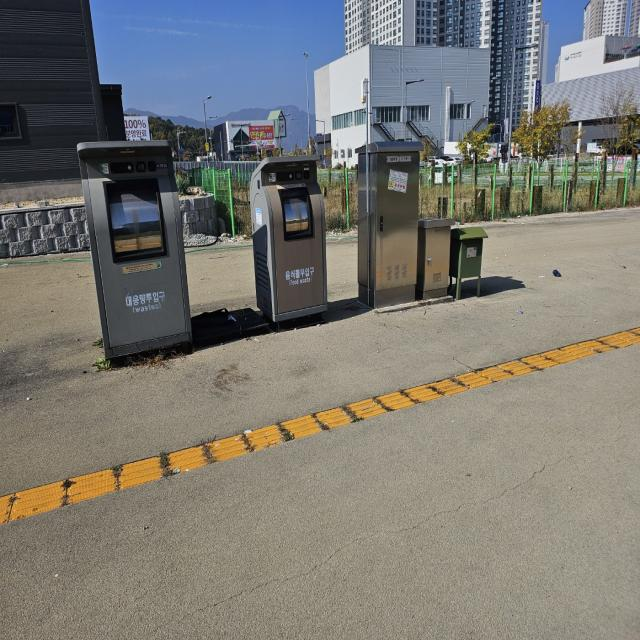CleanNet: (70, 134, 202, 360), (249, 154, 334, 318)
